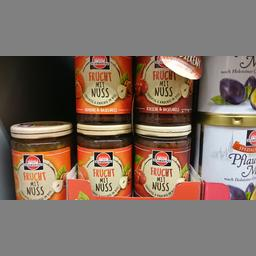jam: (9, 119, 73, 199), (70, 120, 132, 195), (130, 122, 192, 196), (132, 54, 196, 124), (72, 54, 133, 124)
